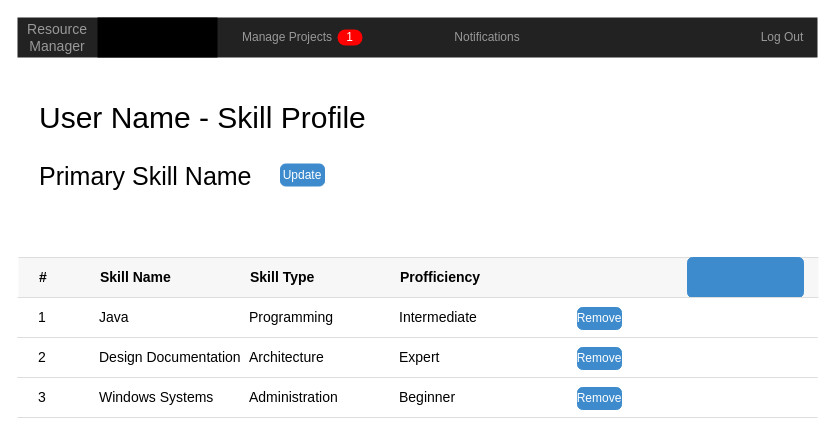
The diagram is 836 pixels wide and 435 high, and some of its shapes have lost their labels. Here are the shapes that lost their labels. From the top down, the centre of each, then its label:
(x=157, y=37): My Skill Profile
(x=745, y=277): Add Skills
